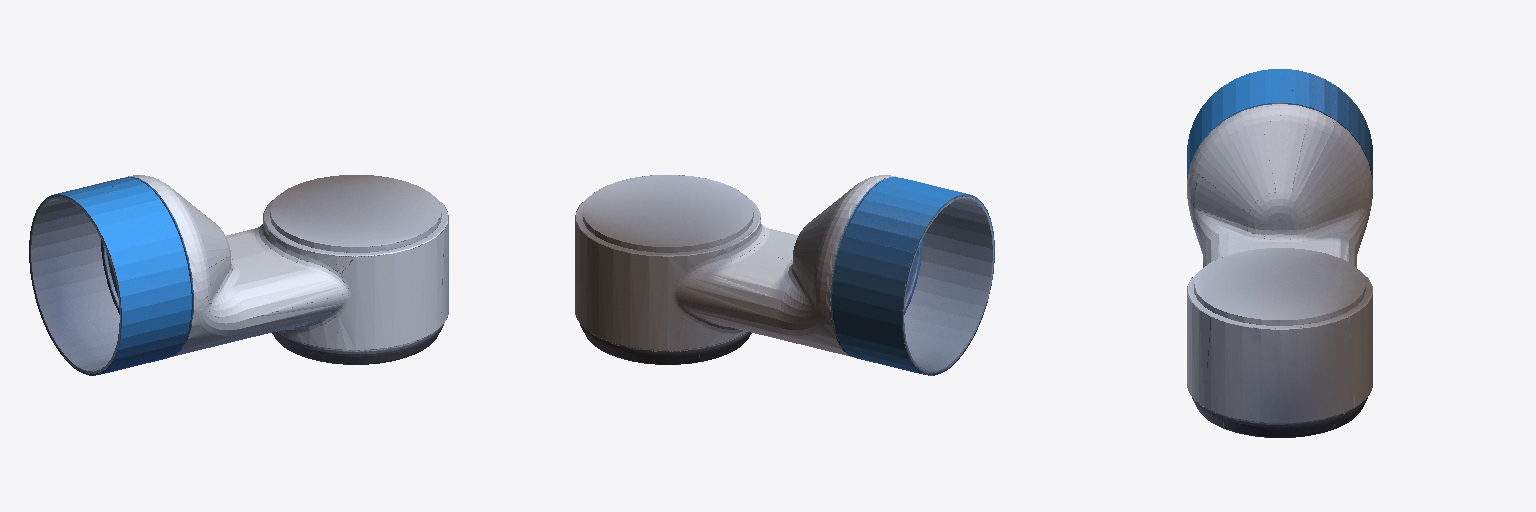
The picture shows the model from 3 angles: view 1: azimuth 30°, elevation 25°; view 2: azimuth 150°, elevation 25°; view 3: azimuth 270°, elevation 25°; orthographic projection.
Size of the model in its own units: 0.233 by 0.1225 by 0.104.
1 materials, 1 textured.